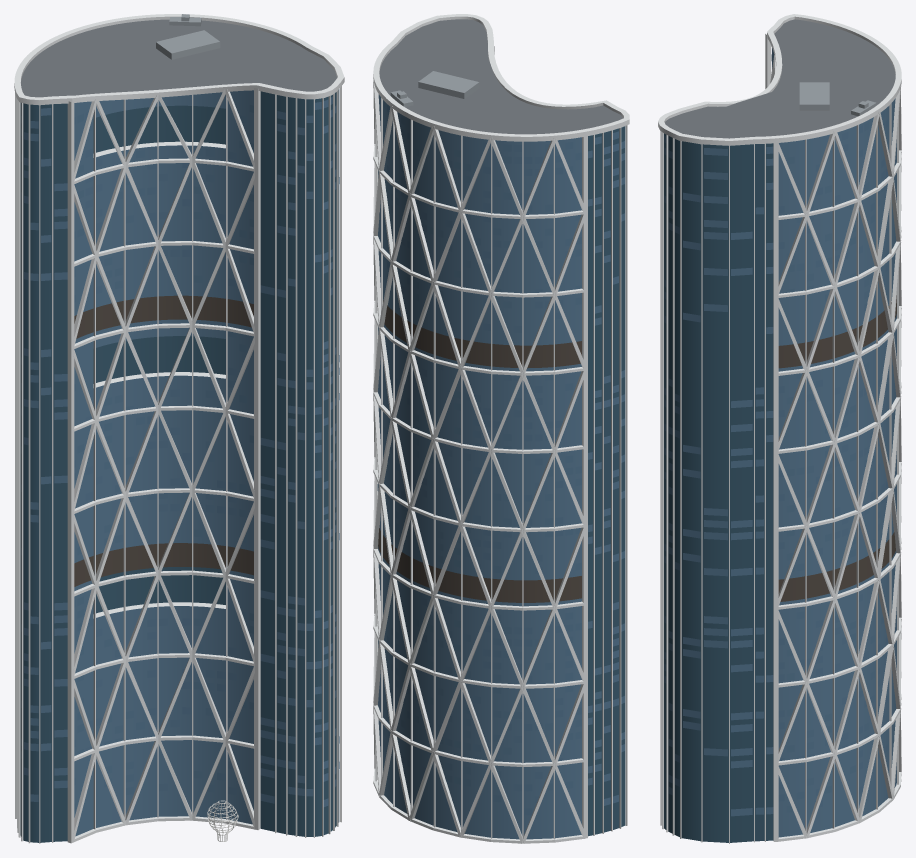
File: the-bow-near.glb
3 views of the same model, side by side, from view 1: azimuth 30°, elevation 25°; view 2: azimuth 150°, elevation 25°; view 3: azimuth 270°, elevation 25° (orthographic). The views are drawn at different scales.
Visible parts, largest first — view 1: the-bow-0-wing, the-bow-0-frame, the-bow-0-glass, the-bow-0-glow, the-bow-0-roof, the-bow-0-louvre, the-bow-0-metal, the-bow-0-sculpt; view 2: the-bow-0-glass, the-bow-0-frame, the-bow-0-wing, the-bow-0-glow, the-bow-0-roof, the-bow-0-louvre, the-bow-0-metal; view 3: the-bow-0-wing, the-bow-0-frame, the-bow-0-glass, the-bow-0-glow, the-bow-0-roof, the-bow-0-louvre, the-bow-0-metal.
Part boxes in pixels (<box>): the-bow-0-wing: <box>20,89,339,842</box>; the-bow-0-frame: <box>14,14,344,843</box>; the-bow-0-glass: <box>74,90,253,836</box>; the-bow-0-glow: <box>21,97,339,810</box>; the-bow-0-roof: <box>21,19,337,97</box>; the-bow-0-louvre: <box>74,295,253,586</box>; the-bow-0-metal: <box>156,14,220,59</box>; the-bow-0-sculpt: <box>207,800,238,841</box>; the-bow-0-glass: <box>378,94,581,839</box>; the-bow-0-frame: <box>373,14,629,843</box>; the-bow-0-wing: <box>588,126,625,836</box>; the-bow-0-glow: <box>377,95,624,815</box>; the-bow-0-roof: <box>379,19,623,134</box>; the-bow-0-louvre: <box>377,300,581,602</box>; the-bow-0-metal: <box>390,71,479,106</box>; the-bow-0-wing: <box>664,133,773,842</box>; the-bow-0-frame: <box>658,14,901,843</box>; the-bow-0-glass: <box>772,48,896,837</box>; the-bow-0-glow: <box>664,54,896,816</box>; the-bow-0-roof: <box>665,19,895,138</box>; the-bow-0-louvre: <box>778,295,896,601</box>; the-bow-0-metal: <box>799,82,876,116</box>.
Bounding box in the file's own units: 90.8 × 236 × 73.63.
